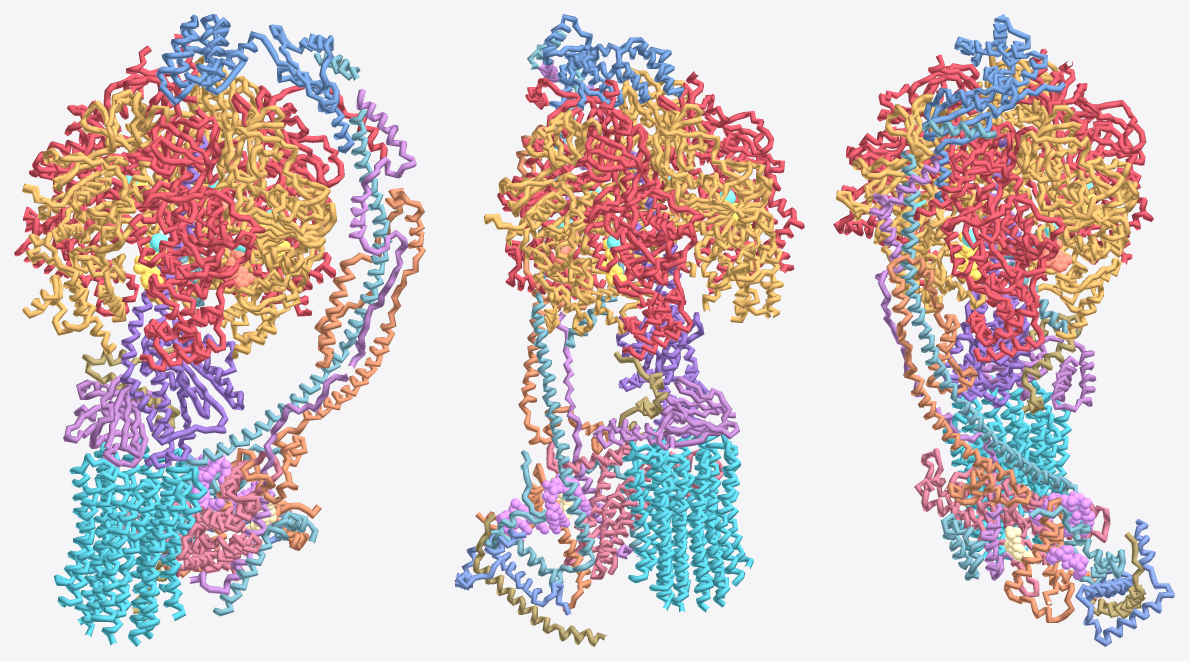
The model's file is atp-synthase-8h9s.glb.
The picture shows the model from 3 angles, left to right: view 1: azimuth 30°, elevation 25°; view 2: azimuth 150°, elevation 25°; view 3: azimuth 270°, elevation 25°; orthographic projection. The views are drawn at different scales.
Parts seen in each view (by area): view 1: ATP synthase F(0) complex subunit C1, mitochondrial · chain  (×8), ATP synthase subunit alpha, mitochondrial · chain E, ATP synthase subunit beta, mitochondrial · chain G, ATP synthase subunit beta, mitochondrial · chain H, ATP synthase subunit alpha, mitochondrial · chain D, ATP synthase subunit gamma, mitochondrial · chain J, ATP synthase subunit O, mitochondrial · chain L, ATP synthase subunit d, mitochondrial · chain C, ATP synthase subunit alpha, mitochondrial · chain F, ATP synthase F(0) complex subunit B1, mitochondrial · chain , ATP synthase subunit a · chain W, ATP synthase subunit delta, mitochondrial · chain U (+9 smaller); view 2: ATP synthase F(0) complex subunit C1, mitochondrial · chain  (×8), ATP synthase subunit alpha, mitochondrial · chain D, ATP synthase subunit beta, mitochondrial · chain G, ATP synthase subunit beta, mitochondrial · chain I, ATP synthase subunit alpha, mitochondrial · chain E, ATP synthase subunit alpha, mitochondrial · chain F, ATP synthase F(0) complex subunit B1, mitochondrial · chain , ATP synthase subunit O, mitochondrial · chain L, ATP synthase subunit a · chain W, ATP synthase subunit delta, mitochondrial · chain U, ATP synthase subunit gamma, mitochondrial · chain J, ATP synthase subunit beta, mitochondrial · chain H (+10 smaller); view 3: ATP synthase subunit alpha, mitochondrial · chain F, ATP synthase subunit beta, mitochondrial · chain I, ATP synthase subunit beta, mitochondrial · chain H, ATP synthase F(0) complex subunit B1, mitochondrial · chain , ATP synthase F(0) complex subunit C1, mitochondrial · chain  (×7), ATP synthase subunit alpha, mitochondrial · chain D, ATP synthase subunit O, mitochondrial · chain L, ATP synthase subunit d, mitochondrial · chain C, ATP synthase subunit alpha, mitochondrial · chain E, ATP synthase subunit a · chain W, ATP synthase subunit gamma, mitochondrial · chain J, ATP synthase subunit g, mitochondrial · chain AA (+13 smaller).
Part boxes in pixels (x1=…): ATP synthase F(0) complex subunit C1, mitochondrial · chain  (×8): x1=54, y1=438, x2=207, y2=646; ATP synthase subunit alpha, mitochondrial · chain E: x1=128, y1=106, x2=265, y2=372; ATP synthase subunit beta, mitochondrial · chain G: x1=22, y1=88, x2=177, y2=354; ATP synthase subunit beta, mitochondrial · chain H: x1=181, y1=105, x2=336, y2=359; ATP synthase subunit alpha, mitochondrial · chain D: x1=14, y1=33, x2=198, y2=316; ATP synthase subunit gamma, mitochondrial · chain J: x1=120, y1=134, x2=244, y2=469; ATP synthase subunit O, mitochondrial · chain L: x1=155, y1=14, x2=354, y2=153; ATP synthase subunit d, mitochondrial · chain C: x1=239, y1=188, x2=425, y2=504; ATP synthase subunit alpha, mitochondrial · chain F: x1=207, y1=85, x2=387, y2=316; ATP synthase F(0) complex subunit B1, mitochondrial · chain : x1=174, y1=52, x2=392, y2=548; ATP synthase subunit a · chain W: x1=116, y1=451, x2=282, y2=581; ATP synthase subunit delta, mitochondrial · chain U: x1=63, y1=374, x2=170, y2=468; ATP synthase F(0) complex subunit C1, mitochondrial · chain  (×8): x1=622, y1=428, x2=753, y2=612; ATP synthase subunit alpha, mitochondrial · chain D: x1=578, y1=79, x2=704, y2=361; ATP synthase subunit beta, mitochondrial · chain G: x1=650, y1=103, x2=783, y2=322; ATP synthase subunit beta, mitochondrial · chain I: x1=483, y1=110, x2=644, y2=337; ATP synthase subunit alpha, mitochondrial · chain E: x1=650, y1=71, x2=804, y2=294; ATP synthase subunit alpha, mitochondrial · chain F: x1=497, y1=78, x2=623, y2=299; ATP synthase F(0) complex subunit B1, mitochondrial · chain : x1=484, y1=30, x2=595, y2=588; ATP synthase subunit O, mitochondrial · chain L: x1=541, y1=14, x2=684, y2=109; ATP synthase subunit a · chain W: x1=546, y1=436, x2=723, y2=579; ATP synthase subunit delta, mitochondrial · chain U: x1=592, y1=376, x2=739, y2=450; ATP synthase subunit gamma, mitochondrial · chain J: x1=616, y1=147, x2=709, y2=439; ATP synthase subunit beta, mitochondrial · chain H: x1=592, y1=67, x2=696, y2=297; ATP synthase subunit alpha, mitochondrial · chain F: x1=913, y1=120, x2=1065, y2=362; ATP synthase subunit beta, mitochondrial · chain I: x1=1016, y1=104, x2=1139, y2=339; ATP synthase subunit beta, mitochondrial · chain H: x1=836, y1=93, x2=992, y2=313; ATP synthase F(0) complex subunit B1, mitochondrial · chain : x1=899, y1=119, x2=1125, y2=584; ATP synthase F(0) complex subunit C1, mitochondrial · chain  (×7): x1=942, y1=375, x2=1082, y2=563; ATP synthase subunit alpha, mitochondrial · chain D: x1=1013, y1=48, x2=1153, y2=280; ATP synthase subunit O, mitochondrial · chain L: x1=922, y1=14, x2=1065, y2=202; ATP synthase subunit d, mitochondrial · chain C: x1=886, y1=254, x2=1032, y2=507; ATP synthase subunit alpha, mitochondrial · chain E: x1=833, y1=54, x2=981, y2=286; ATP synthase subunit a · chain W: x1=914, y1=448, x2=1110, y2=597; ATP synthase subunit gamma, mitochondrial · chain J: x1=942, y1=138, x2=1030, y2=408; ATP synthase subunit g, mitochondrial · chain AA: x1=1075, y1=518, x2=1174, y2=646.
Bounding box in the file's own units: 2.76 × 4.9 × 2.52.
